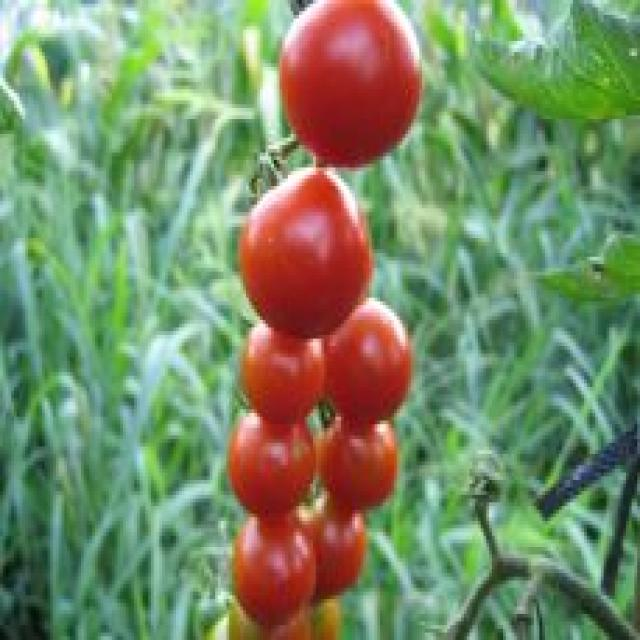level 4: (212, 595, 310, 640), (296, 580, 347, 640)
level 5: (218, 309, 330, 418), (315, 408, 399, 512)
level 6: (274, 2, 436, 170), (234, 166, 387, 340), (316, 282, 422, 436), (226, 505, 326, 615), (234, 402, 317, 515), (298, 488, 369, 602)
